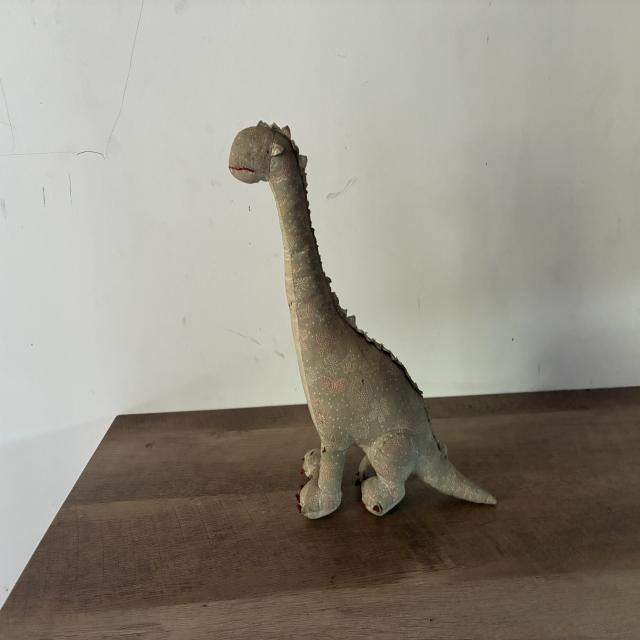dinosaur: (229, 121, 496, 519)
